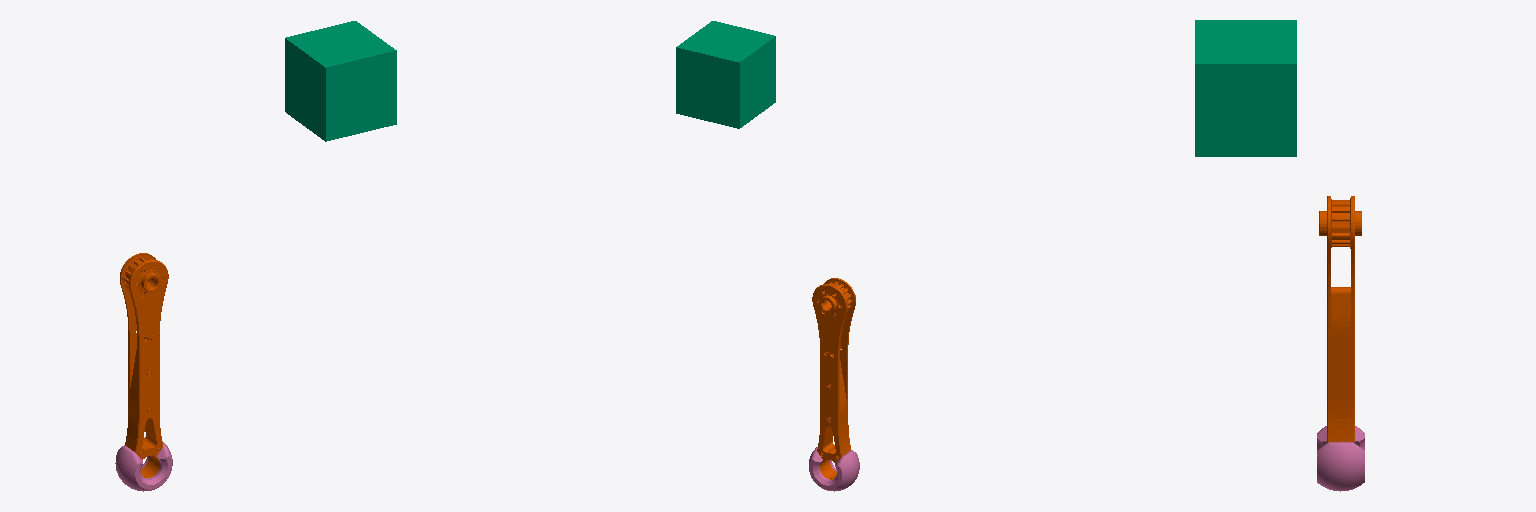
URDF robot description (meldog_core):
<?xml version="1.0" ?>
<!-- =================================================================================== -->
<!-- |    This document was autogenerated by xacro from meldog_core.urdf.xacro         | -->
<!-- |    EDITING THIS FILE BY HAND IS NOT RECOMMENDED                                 | -->
<!-- =================================================================================== -->
<robot name="meldog_core">
  <!-- Macro for defining a link, please ensure that 
    the visual and collision models coordinate 
    systems are placed in joints -->
  <!-- inertial properties -->
  <!-- inertial properties -->
  <!-- inertial properties -->
  <!-- inertial properties -->
  <!-- If using gazebo link parameters -->
  <gazebo reference="trunk_link">
    <visual>
      <material>
        <diffuse>0 0 1 1 </diffuse>
      </material>
    </visual>
    <mu1 value="0"/>
    <mu2 value="0"/>
    <kp value="0"/>
    <kd value="0"/>
    <maxVel value="0"/>
    <dampingFactor value="0"/>
  </gazebo>
  <gazebo reference="LRH_link">
    <visual>
      <material>
        <diffuse>0 0 1 1 </diffuse>
      </material>
    </visual>
    <mu1 value="0"/>
    <mu2 value="0"/>
    <kp value="0"/>
    <kd value="0"/>
    <maxVel value="0"/>
    <dampingFactor value="0"/>
  </gazebo>
  <gazebo reference="LRUL_link">
    <visual>
      <material>
        <diffuse>0 0 1 1 </diffuse>
      </material>
    </visual>
    <mu1 value="0"/>
    <mu2 value="0"/>
    <kp value="0"/>
    <kd value="0"/>
    <maxVel value="0"/>
    <dampingFactor value="0"/>
  </gazebo>
  <gazebo reference="LRLL_link">
    <visual>
      <material>
        <diffuse>0 0 1 1 </diffuse>
      </material>
    </visual>
    <mu1 value="0"/>
    <mu2 value="0"/>
    <kp value="0"/>
    <kd value="0"/>
    <maxVel value="0"/>
    <dampingFactor value="0"/>
  </gazebo>
  <gazebo reference="LRF_link">
    <visual>
      <material>
        <diffuse>0 0 1 1 </diffuse>
      </material>
    </visual>
    <mu1 value="0"/>
    <mu2 value="0"/>
    <kp value="0"/>
    <kd value="0"/>
    <maxVel value="0"/>
    <dampingFactor value="0"/>
  </gazebo>
  <!-- if using gazebo joint parameters -->
  <gazebo reference="LRT_joint">
    <implicitSpringDamper>0</implicitSpringDamper>
    <springStiffness>0</springStiffness>
    <springReference>0</springReference>
    <stopErp>0</stopErp>
    <stopCfm>0</stopCfm>
  </gazebo>
  <gazebo reference="LRH_joint">
    <implicitSpringDamper>0</implicitSpringDamper>
    <springStiffness>0</springStiffness>
    <springReference>0</springReference>
    <stopErp>0</stopErp>
    <stopCfm>0</stopCfm>
  </gazebo>
  <gazebo reference="LRK_joint">
    <implicitSpringDamper>0</implicitSpringDamper>
    <springStiffness>0</springStiffness>
    <springReference>0</springReference>
    <stopErp>0</stopErp>
    <stopCfm>0</stopCfm>
  </gazebo>
  <ros2_control name="IgnitionSystem" type="system">
    <hardware>
      <plugin>ign_ros2_control/IgnitionSystem</plugin>
    </hardware>
    <!-- joints -->
    <joint name="LRT_joint">
      <!-- co jesli joint continuous? -->
      <command_interface name="position">
        <param name="min">-45</param>
        <param name="max">45</param>
      </command_interface>
      <command_interface name="velocity">
        <param name="min">-18.906274745776084</param>
        <param name="max">18.906274745776084</param>
      </command_interface>
      <command_interface name="effort">
        <param name="min">-34.895</param>
        <param name="max">34.895</param>
      </command_interface>
      <state_interface name="position"/>
      <state_interface name="velocity"/>
      <state_interface name="effort"/>
    </joint>
    <joint name="LRH_joint">
      <!-- co jesli joint continuous? -->
      <command_interface name="position">
        <param name="min">-120</param>
        <param name="max">120</param>
      </command_interface>
      <command_interface name="velocity">
        <param name="min">-18.906274745776084</param>
        <param name="max">18.906274745776084</param>
      </command_interface>
      <command_interface name="effort">
        <param name="min">-34.895</param>
        <param name="max">34.895</param>
      </command_interface>
      <state_interface name="position"/>
      <state_interface name="velocity"/>
      <state_interface name="effort"/>
    </joint>
    <joint name="LRK_joint">
      <!-- co jesli joint continuous? -->
      <command_interface name="position">
        <param name="min">-160</param>
        <param name="max">160</param>
      </command_interface>
      <command_interface name="velocity">
        <param name="min">-18.906274745776084</param>
        <param name="max">18.906274745776084</param>
      </command_interface>
      <command_interface name="effort">
        <param name="min">-34.895</param>
        <param name="max">34.895</param>
      </command_interface>
      <state_interface name="position"/>
      <state_interface name="velocity"/>
      <state_interface name="effort"/>
    </joint>
    <transmission name="FourBarLinkageTransmission_LRH_LRK">
      <plugin>transmission_interface/FourBarLinkageTransmission</plugin>
      <!-- <actuator name="${first_joint_name}_actuator" role="actuator1">
                <mechanical_reduction>${reduction}</mechanical_reduction>
            </actuator>
            <actuator name="${second_joint_name}_actuator" role="actuator2">
                <mechanical_reduction>${reduction}</mechanical_reduction>
            </actuator> -->
      <joint name="LRH_joint" role="joint1">
        <mechanical_reduction>1.0</mechanical_reduction>
        <offset>0.0</offset>
      </joint>
      <joint name="LRK_joint" role="joint2">
        <mechanical_reduction>1.0</mechanical_reduction>
        <offset>0.0</offset>
      </joint>
    </transmission>
  </ros2_control>
  <gazebo>
    <plugin filename="ign_ros2_control-system" name="ign_ros2_control::IgnitionROS2ControlPlugin">
      <!-- <robot_param>robot_description</robot_param>
          <robot_param_node>robot_state_publisher</robot_param_node> -->
      <parameters>[local-path]/meldog_leg_description/meldog_leg_description/install/meldog_leg_description/share/meldog_leg_description/controllers/joint_controller.yaml</parameters>
      <!-- <hold_joints>true</hold_joints> -->
    </plugin>
  </gazebo>
  <!-- LINKS -->
  <link name="world"/>
  <!-- Base link -->
  <link name="base_link"/>
  <link name="trunk_link">
    <inertial>
      <origin rpy="0.0 0.0 0.0" xyz="0.0 0.0 0.0"/>
      <mass value="0.001"/>
      <inertia ixx="1.6666666666666669e-06" ixy="0.0" ixz="0.0" iyy="1.6666666666666669e-06" iyz=".0" izz="1.6666666666666669e-06"/>
    </inertial>
    <visual name="trunk_base_visual">
      <origin rpy="0.0 0.0 0.0" xyz="0.0 0.0 0.0"/>
      <geometry>
        <box size="0.1 0.1 0.1"/>
      </geometry>
    </visual>
    <collision name="trunk_base_collision">
      <origin rpy="0.0 0.0 0.0" xyz="0.0 0.0 0.0"/>
      <geometry>
        <box size="0.01 0.01 0.01"/>
      </geometry>
    </collision>
  </link>
  <!-- Left rear leg links -->
  <link name="LRH_link">
    <visual>
      <geometry>
        <mesh filename="package://meldog_leg_description/meshes/visual/rear_left_hip.stl" scale="0.001 0.001 0.001"/>
      </geometry>
      <origin rpy="0 0 0" xyz="0 0 0"/>
    </visual>
    <collision>
      <geometry>
        <mesh filename="package://meldog_leg_description/meshes/collision/rear_left_hip_collision.stl" scale="0.001 0.001 0.001"/>
      </geometry>
      <origin rpy="0 0 0" xyz="0 0 0"/>
    </collision>
    <inertial>
      <mass value="2.276"/>
      <origin rpy="0 0 0" xyz="-0.126369 0.014728999999999999 0.00016"/>
      <inertia ixx="0.003609753" ixy="0.00037116699999999994" ixz="-5.5e-07" iyy="0.008775172" iyz="1.7541e-05" izz="0.009362116"/>
    </inertial>
  </link>
  <link name="LRUL_link">
    <visual>
      <geometry>
        <mesh filename="package://meldog_leg_description/meshes/visual/upper_limb_test.stl" scale="0.001 0.001 0.001"/>
      </geometry>
      <origin rpy="0 0 0" xyz="0 0 0"/>
    </visual>
    <collision>
      <geometry>
        <mesh filename="package://meldog_leg_description/meshes/collision/upper_limb_collision.stl" scale="0.001 0.001 0.001"/>
      </geometry>
      <origin rpy="0 0 0" xyz="0 0 0"/>
    </collision>
    <inertial>
      <mass value="0.474"/>
      <origin rpy="0 0 0" xyz="0.001185 -0.004308 -0.09420300000000001"/>
      <inertia ixx="0.0040645049999999995" ixy="-1.241e-06" ixz="-1.9989e-05" iyy="0.00415005" iyz="0.00023564799999999998" izz="0.00042455499999999996"/>
    </inertial>
  </link>
  <link name="LRLL_link">
    <visual>
      <geometry>
        <mesh filename="package://meldog_leg_description/meshes/visual/LL_vis_v2.stl" scale="0.001 0.001 0.001"/>
      </geometry>
      <origin rpy="0 0 0" xyz="0 0 0"/>
    </visual>
    <collision>
      <geometry>
        <mesh filename="package://meldog_leg_description/meshes/collision/lower_limb_collision.stl" scale="0.001 0.001 0.001"/>
      </geometry>
      <origin rpy="0 0 0" xyz="0 0 0"/>
    </collision>
    <inertial>
      <mass value="0.079"/>
      <origin rpy="0 0 0" xyz="-0.0008010000000000001 0.0 -0.13983600000000002"/>
      <inertia ixx="0.0005982219999999999" ixy="-0.0" ixz="2.447e-06" iyy="0.0006030879999999999" iyz="0.0" izz="1.3771e-05"/>
    </inertial>
  </link>
  <link name="LRF_link">
    <visual>
      <geometry>
        <mesh filename="package://meldog_leg_description/meshes/visual/foot_vis.stl" scale="0.001 0.001 0.001"/>
      </geometry>
      <origin rpy="0 0 0" xyz="0 0 0"/>
    </visual>
    <collision>
      <geometry>
        <sphere radius="0.035"/>
      </geometry>
      <origin rpy="0 0 0" xyz="0 0 0"/>
    </collision>
    <inertial>
      <mass value="0.037"/>
      <origin rpy="0 0 0" xyz="-0.0 0.0 -0.008417"/>
      <inertia ixx="1.4919e-05" ixy="-0.0" ixz="-0.0" iyy="2.5291e-05" iyz="0.0" izz="2.3389999999999998e-05"/>
    </inertial>
  </link>
  <!-- JOINTS -->
  <joint name="base_joint" type="fixed">
    <parent link="base_link"/>
    <child link="trunk_link"/>
    <origin rpy="0 0 0" xyz="0 0 0.6"/>
  </joint>
  <joint name="world_fixed_joint" type="fixed">
    <parent link="world"/>
    <child link="base_link"/>
  </joint>
  <!-- Left rear leg joints -->
  <joint name="LRT_joint" type="revolute">
    <parent link="trunk_link"/>
    <child link="LRH_link"/>
    <origin rpy="0 0 0" xyz="-0.05 0 0"/>
    <limit effort="34.895" lower="-0.7853981633974483" upper="0.7853981633974483" velocity="18.906274745776084"/>
    <axis xyz="1 0 0"/>
  </joint>
  <joint name="LRH_joint" type="revolute">
    <parent link="LRH_link"/>
    <child link="LRUL_link"/>
    <origin rpy="0 0 0" xyz="-0.174                      0.0925                      0"/>
    <limit effort="34.895" lower="-2.0943951023931953" upper="2.0943951023931953" velocity="18.906274745776084"/>
    <axis xyz="0 -1 0"/>
  </joint>
  <joint name="LRK_joint" type="revolute">
    <parent link="LRUL_link"/>
    <child link="LRLL_link"/>
    <origin rpy="0 0 0" xyz="0 0 -0.25"/>
    <limit effort="34.895" lower="-2.792526803190927" upper="2.792526803190927" velocity="18.906274745776084"/>
    <axis xyz="0 -1 0"/>
  </joint>
  <joint name="LRF_joint" type="fixed">
    <parent link="LRLL_link"/>
    <child link="LRF_link"/>
    <origin rpy="0 0 0" xyz="0 0 -0.25"/>
  </joint>
</robot>

--- Render facts (derived) ---
3 views of the same robot in one strip: view 1: azimuth 30°, elevation 25°; view 2: azimuth 150°, elevation 25°; view 3: azimuth 270°, elevation 25° (orthographic).
Model meldog_core with 7 links and 6 joints (3 revolute, 3 fixed), rooted at world, posed all joints at 0.
Links seen in each view (by area): view 1: trunk_link, LRLL_link, LRF_link; view 2: trunk_link, LRLL_link, LRF_link; view 3: trunk_link, LRLL_link, LRF_link.
Boxes of the visible links, x1,y1,x2,y2 form: trunk_link: (285, 21, 396, 141); LRLL_link: (120, 253, 168, 477); LRF_link: (115, 441, 172, 491); trunk_link: (676, 21, 775, 128); LRLL_link: (812, 278, 855, 479); LRF_link: (809, 447, 859, 491); trunk_link: (1195, 20, 1296, 156); LRLL_link: (1319, 196, 1361, 442); LRF_link: (1317, 426, 1364, 491).
Bounding box of the posed robot: 0.309 × 0.166 × 0.585 m (x, y, z).
2 mesh visuals loaded from 4 distinct referenced files (2 binary STL); not drawn: 2 (reference not matched to a file when rendering).
